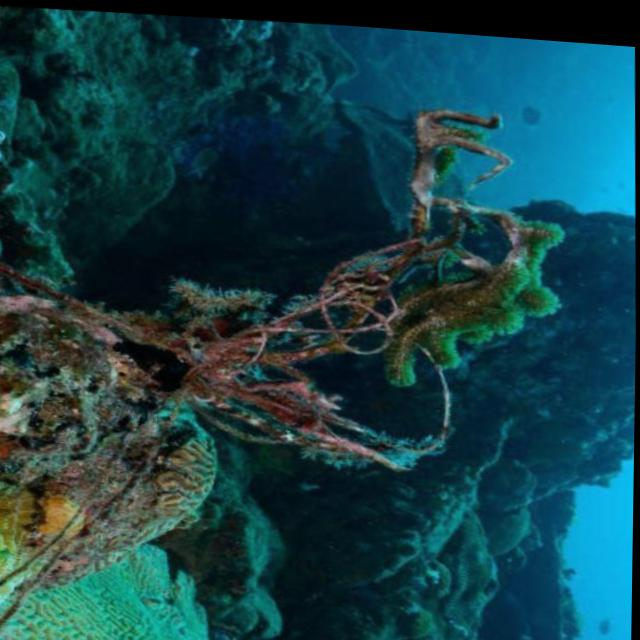Healthy Coral: (344, 190, 568, 385), (6, 494, 216, 640)
